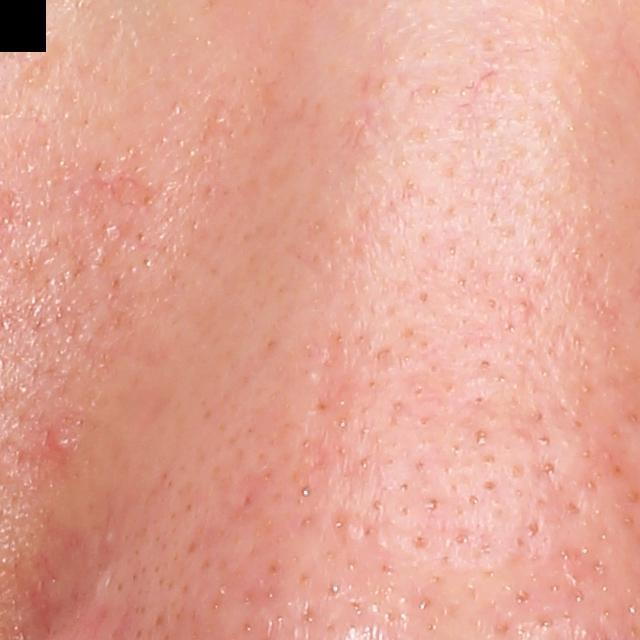papule: (45, 421, 79, 454)
